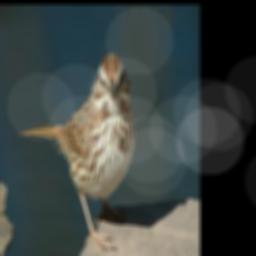Sparrow: (17, 51, 136, 249)
